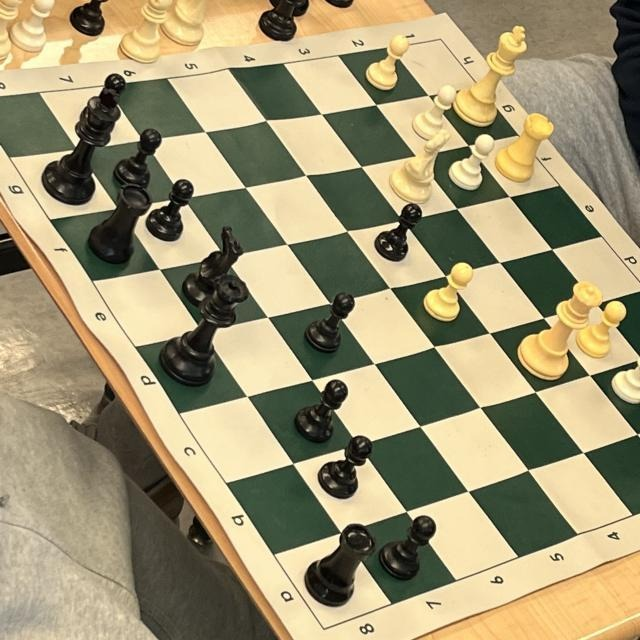black-king: (159, 276, 249, 388), (39, 89, 120, 207)
black-knight: (183, 224, 243, 306)
black-pawn: (315, 429, 372, 500), (378, 514, 438, 580), (293, 377, 351, 441), (144, 177, 195, 240), (304, 290, 355, 353), (79, 71, 127, 133), (113, 128, 162, 188), (375, 202, 421, 261)
black-rook: (304, 522, 376, 607), (89, 180, 150, 262)
white-king: (453, 26, 526, 126)
white-pawn: (423, 262, 473, 322), (575, 299, 627, 356), (410, 81, 457, 140), (449, 134, 495, 190), (366, 33, 409, 91)
white-queen: (517, 279, 602, 381)
white-rook: (492, 112, 555, 183)
